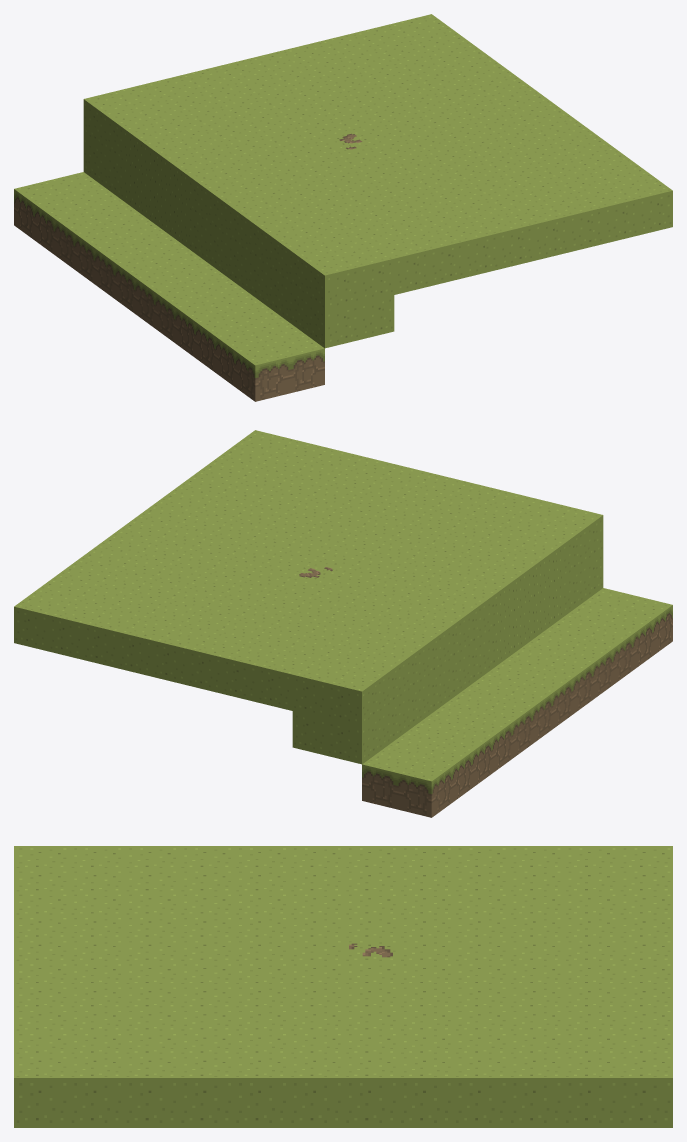
The model's file is map1.19.vox.obj.
3 views of the same model, one above another, from view 1: azimuth 30°, elevation 25°; view 2: azimuth 150°, elevation 25°; view 3: azimuth 270°, elevation 25° (orthographic). The views are drawn at different scales.
Size of the model in its own units: 24 by 6 by 24.
Materials: 1 (1 with a texture image).
